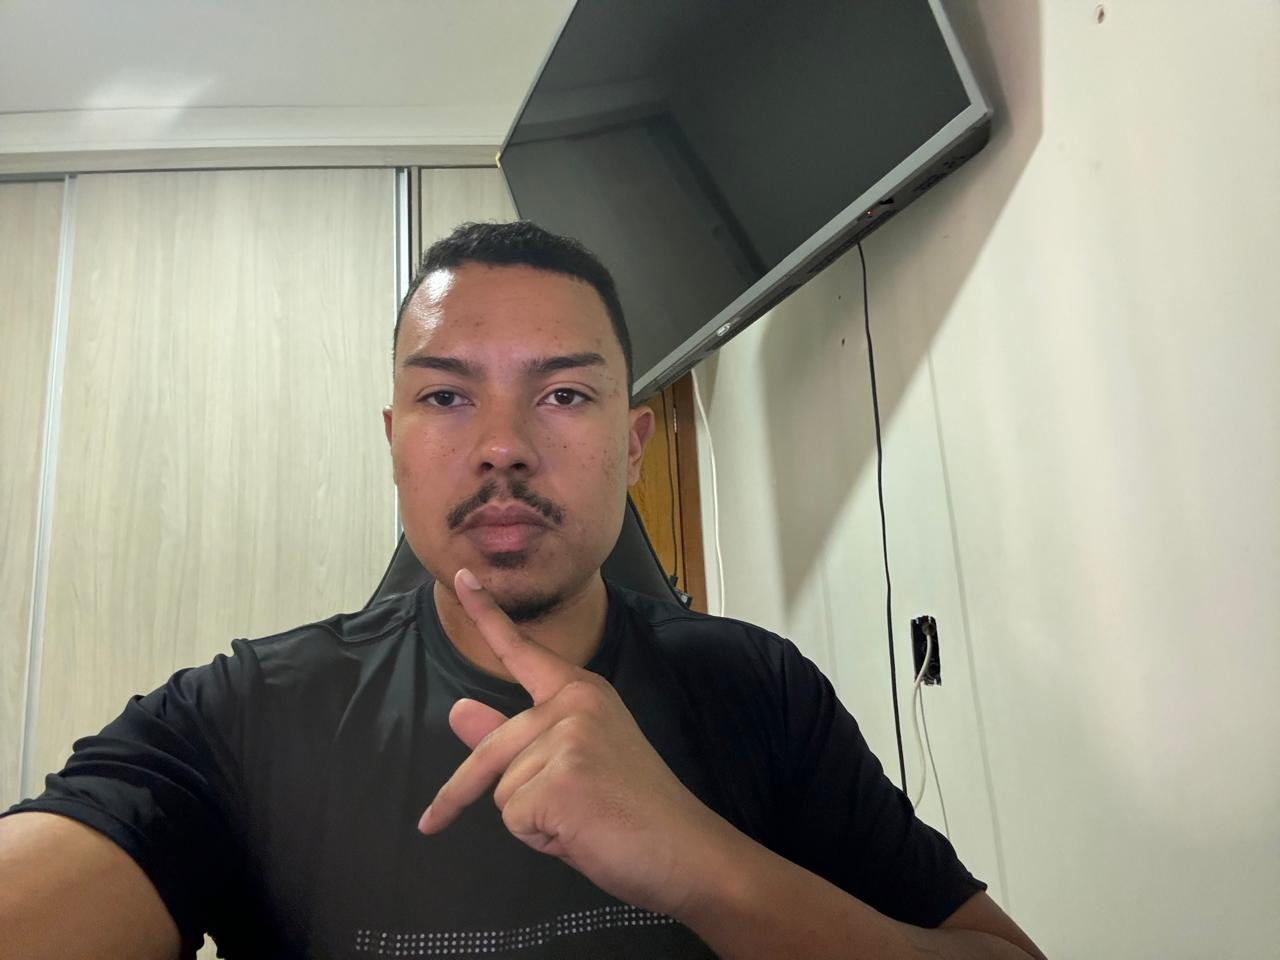p: (404, 552, 728, 930)
